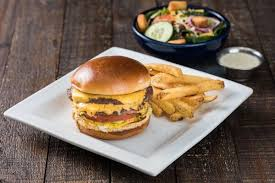hamburger: (68, 55, 153, 143)
